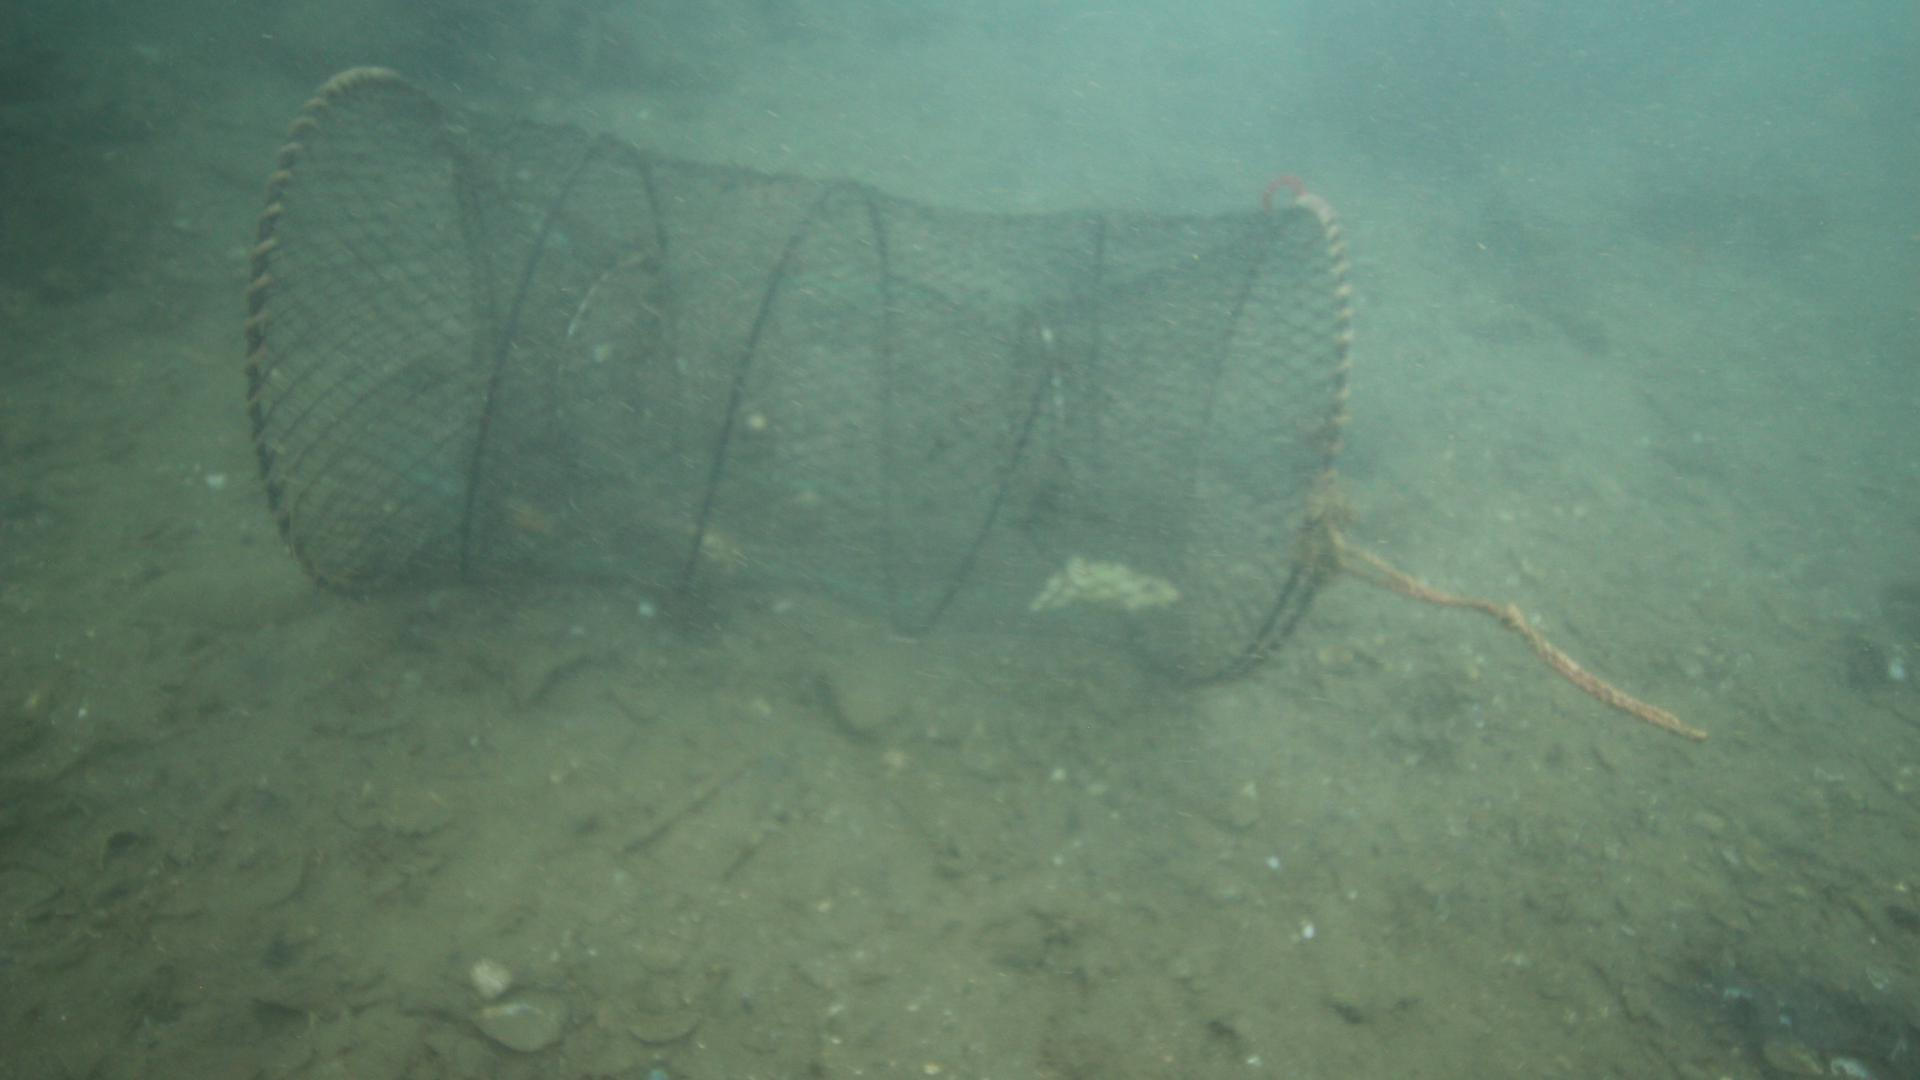bundle of ropes: (1324, 518, 1712, 746)
spring fish trap: (244, 65, 1365, 694)
